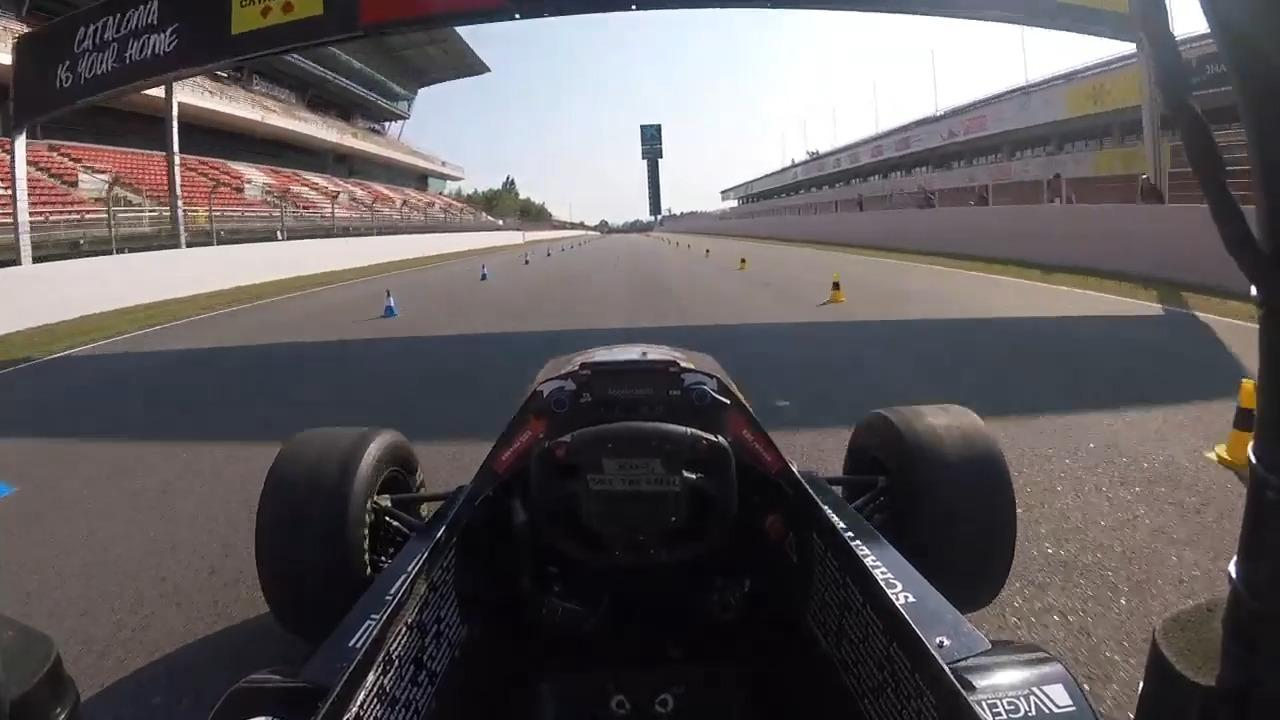blue_cone: (378, 288, 400, 318), (477, 262, 490, 282)
yellow_cone: (1207, 369, 1272, 473), (825, 270, 848, 304), (738, 254, 748, 270)
